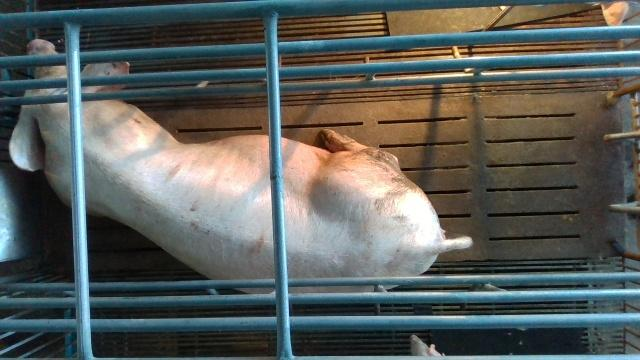sow-sit: (10, 40, 474, 293)
